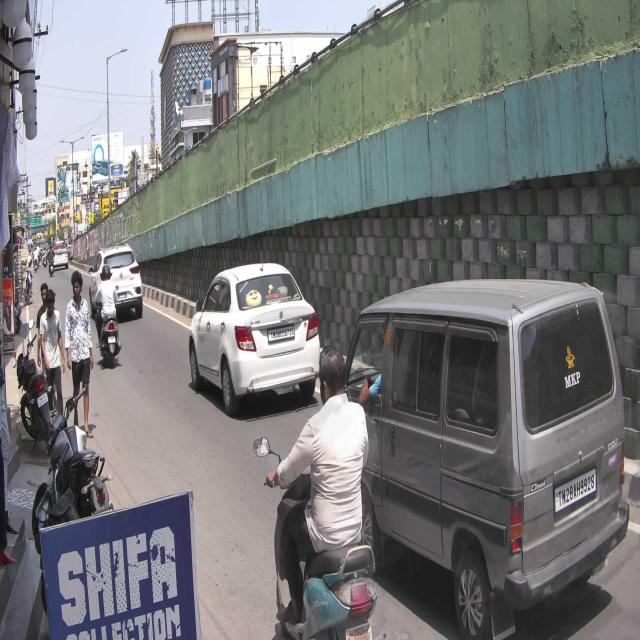single_rider: (253, 341, 377, 640)
